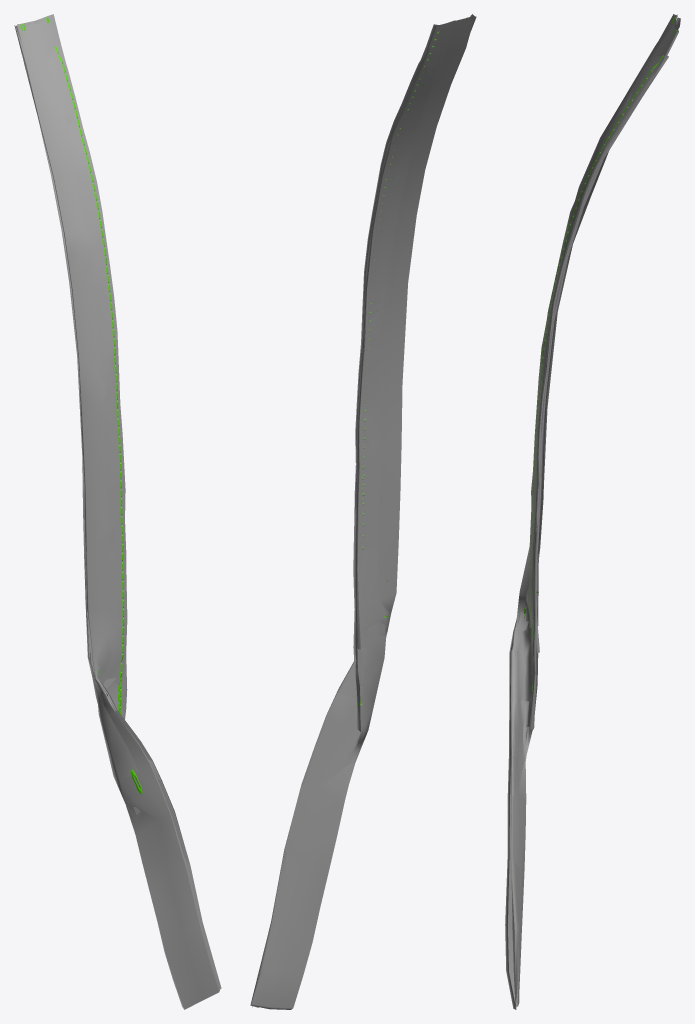
Rendered from menjin.fbx.
3 renders of one model, left to right at view 1: azimuth 30°, elevation 25°; view 2: azimuth 210°, elevation 25°; view 3: azimuth 270°, elevation 25°, orthographic. The views are drawn at different scales.
Visible parts, largest first — view 1: shuangzheantong, fanzheshuangantong, luotiemingtong, shengzheantonglou01cm; view 2: shengzheantonglou01cm, banmianshuangtong, luotiemingtong, mingtongzhongluozhuangbu, antongmianpozhong, mingxiantong, fanzheshuangantong, mingtongliangbianjiajibian, dimianluotietong, mingtongzhongluozhidai; view 3: fanzheshuangantong, shuangzheantong, luotiemingtong, banmianshuangtong, mingtongzhongluozhuangbu, shengzheantonglou01cm, antongmianpozhong, mingtongliangbianjiajibian, mingtongzhongluozhidai.
Boxes of the visible parts, box(x1,y1,x2,y2) form: shuangzheantong: box(14, 19, 221, 1009); fanzheshuangantong: box(46, 44, 190, 864); luotiemingtong: box(16, 14, 183, 1008); shengzheantonglou01cm: box(17, 21, 98, 678); shengzheantonglou01cm: box(360, 17, 473, 668); banmianshuangtong: box(251, 16, 474, 1002); luotiemingtong: box(250, 14, 474, 1006); mingtongzhongluozhuangbu: box(254, 22, 448, 1007); antongmianpozhong: box(250, 17, 469, 1009); mingxiantong: box(326, 16, 476, 716); fanzheshuangantong: box(354, 47, 429, 649); mingtongliangbianjiajibian: box(255, 649, 362, 1007); dimianluotietong: box(349, 548, 385, 781); mingtongzhongluozhidai: box(253, 98, 411, 1007); fanzheshuangantong: box(529, 55, 668, 653); shuangzheantong: box(505, 16, 678, 1009); luotiemingtong: box(511, 14, 678, 1007); banmianshuangtong: box(510, 16, 678, 1006); mingtongzhongluozhuangbu: box(513, 21, 674, 786); shengzheantonglou01cm: box(521, 16, 680, 609); antongmianpozhong: box(510, 17, 675, 988); mingtongliangbianjiajibian: box(514, 612, 536, 1004); mingtongzhongluozhidai: box(513, 21, 674, 995).
Bounding box in the file's own units: 8.91 × 64.21 × 10.79.
